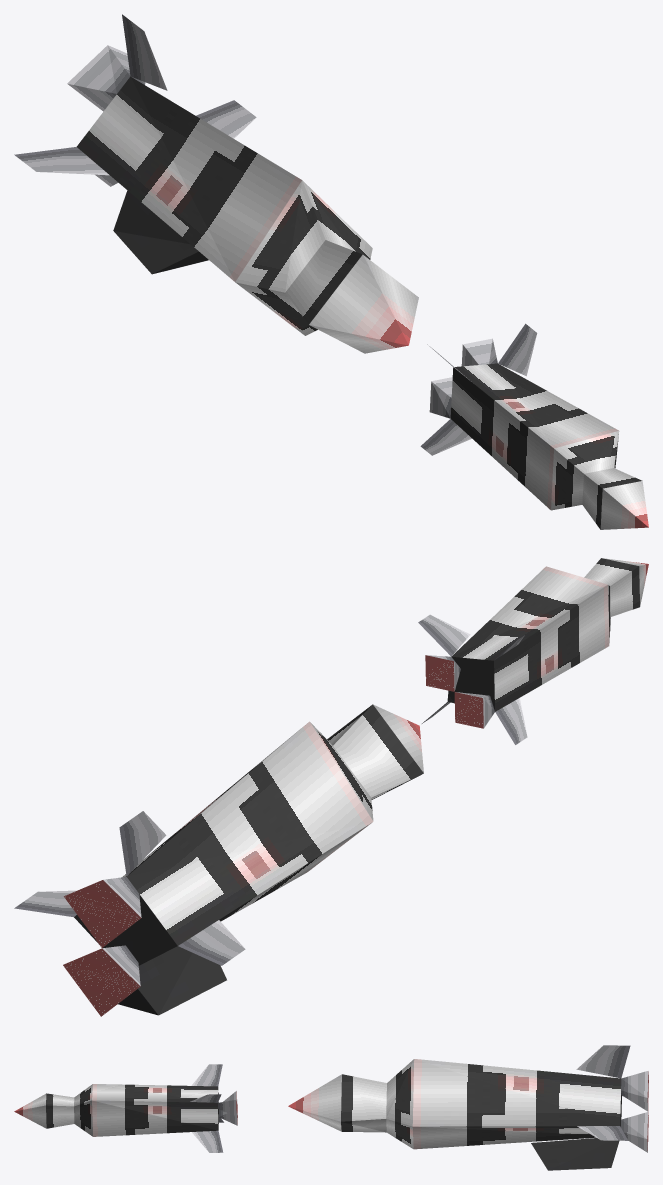
The model's file is Rocket Launcher.obj.
3 renders of one model, top to bottom at view 1: azimuth 30°, elevation 25°; view 2: azimuth 150°, elevation 25°; view 3: azimuth 270°, elevation 25°, orthographic. The views are drawn at different scales.
Parts seen in each view (by area): view 1: ShapeIndexedFaceS.003, ShapeIndexedFaceS.001, ShapeIndexedFaceS, ShapeIndexedFaceS.002; view 2: ShapeIndexedFaceS.003, ShapeIndexedFaceS.001, ShapeIndexedFaceS, ShapeIndexedFaceS.002; view 3: ShapeIndexedFaceS.003, ShapeIndexedFaceS.001, ShapeIndexedFaceS, ShapeIndexedFaceS.002.
Boxes of the visible parts, <box> form: ShapeIndexedFaceS.003: <box>76,76,418,353</box>; ShapeIndexedFaceS.001: <box>450,363,648,529</box>; ShapeIndexedFaceS: <box>14,14,256,186</box>; ShapeIndexedFaceS.002: <box>420,323,537,455</box>; ShapeIndexedFaceS.003: <box>63,704,423,1016</box>; ShapeIndexedFaceS.001: <box>425,558,648,728</box>; ShapeIndexedFaceS: <box>14,811,245,985</box>; ShapeIndexedFaceS.002: <box>418,614,527,744</box>; ShapeIndexedFaceS.003: <box>288,1059,648,1170</box>; ShapeIndexedFaceS.001: <box>14,1084,237,1136</box>; ShapeIndexedFaceS: <box>576,1045,648,1152</box>; ShapeIndexedFaceS.002: <box>190,1064,237,1152</box>.
Size of the model in its own units: 3.32 by 2.9 by 14.54.
